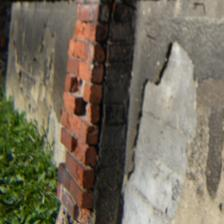Crack: (0, 88, 170, 188), (0, 32, 99, 78), (119, 45, 147, 79)
